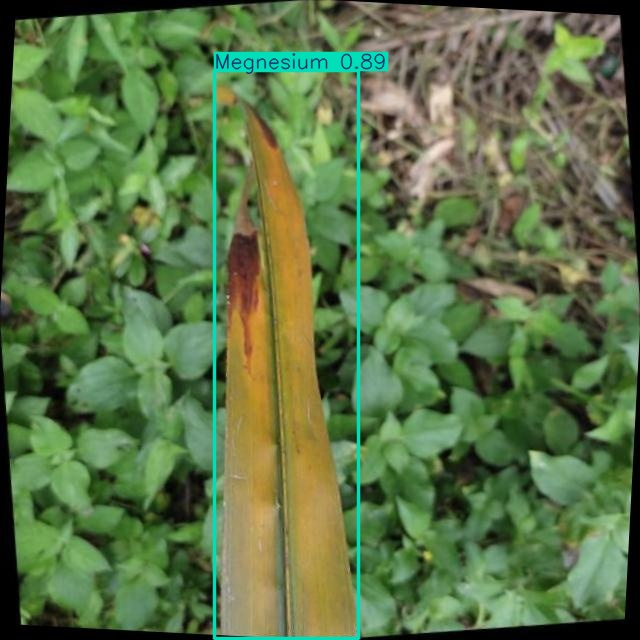Megnesium: (214, 71, 359, 638)
